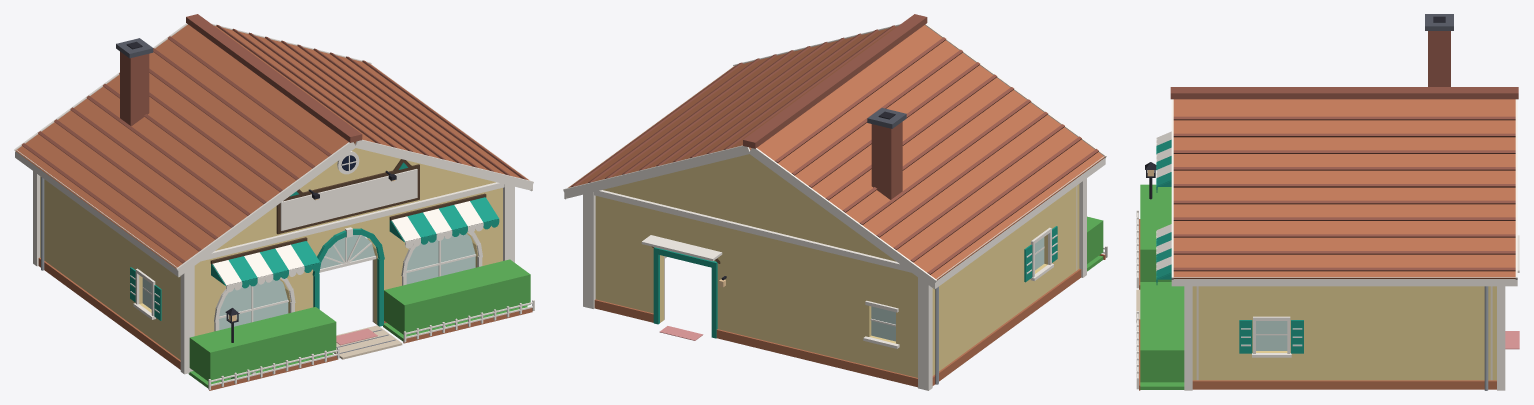
The model's file is CatCafe_Plot_Cafe_Butter.glb.
3 renders of one model, left to right at view 1: azimuth 30°, elevation 25°; view 2: azimuth 150°, elevation 25°; view 3: azimuth 270°, elevation 25°, orthographic. The views are drawn at different scales.
Parts seen in each view (by area): view 1: CatCafe_Plot_Cafe_Butter_Roof, CatCafe_Plot_Cafe_Butter, CatCafe_Plot_Cafe_Butter_Fireflies, CatCafe_Plot_Cafe_Butter_Glass, CatCafe_Plot_Cafe_Butter_SignBoard, CatCafe_Plot_Cafe_Butter_Flowers; view 2: CatCafe_Plot_Cafe_Butter_Roof, CatCafe_Plot_Cafe_Butter, CatCafe_Plot_Cafe_Butter_Glass, CatCafe_Plot_Cafe_Butter_Fireflies; view 3: CatCafe_Plot_Cafe_Butter_Roof, CatCafe_Plot_Cafe_Butter, CatCafe_Plot_Cafe_Butter_Fireflies, CatCafe_Plot_Cafe_Butter_Glass, CatCafe_Plot_Cafe_Butter_Flowers.
Boxes of the visible parts, box(x1,y1,x2,y2) form: CatCafe_Plot_Cafe_Butter_Roof: box(14, 14, 533, 277); CatCafe_Plot_Cafe_Butter: box(33, 148, 534, 390); CatCafe_Plot_Cafe_Butter_Fireflies: box(189, 259, 530, 382); CatCafe_Plot_Cafe_Butter_Glass: box(142, 233, 475, 330); CatCafe_Plot_Cafe_Butter_SignBoard: box(280, 169, 417, 230); CatCafe_Plot_Cafe_Butter_Flowers: box(188, 306, 527, 388); CatCafe_Plot_Cafe_Butter_Roof: box(563, 14, 1106, 289); CatCafe_Plot_Cafe_Butter: box(583, 154, 1107, 390); CatCafe_Plot_Cafe_Butter_Glass: box(871, 237, 1044, 341); CatCafe_Plot_Cafe_Butter_Fireflies: box(1087, 216, 1103, 263); CatCafe_Plot_Cafe_Butter_Roof: box(1170, 14, 1518, 286); CatCafe_Plot_Cafe_Butter: box(1136, 131, 1519, 390); CatCafe_Plot_Cafe_Butter_Fireflies: box(1140, 184, 1184, 382); CatCafe_Plot_Cafe_Butter_Glass: box(1256, 321, 1287, 350); CatCafe_Plot_Cafe_Butter_Flowers: box(1140, 282, 1184, 389).
Size of the model in its own units: 41.86 by 25.3 by 36.8.
1 material, 1 textured.
